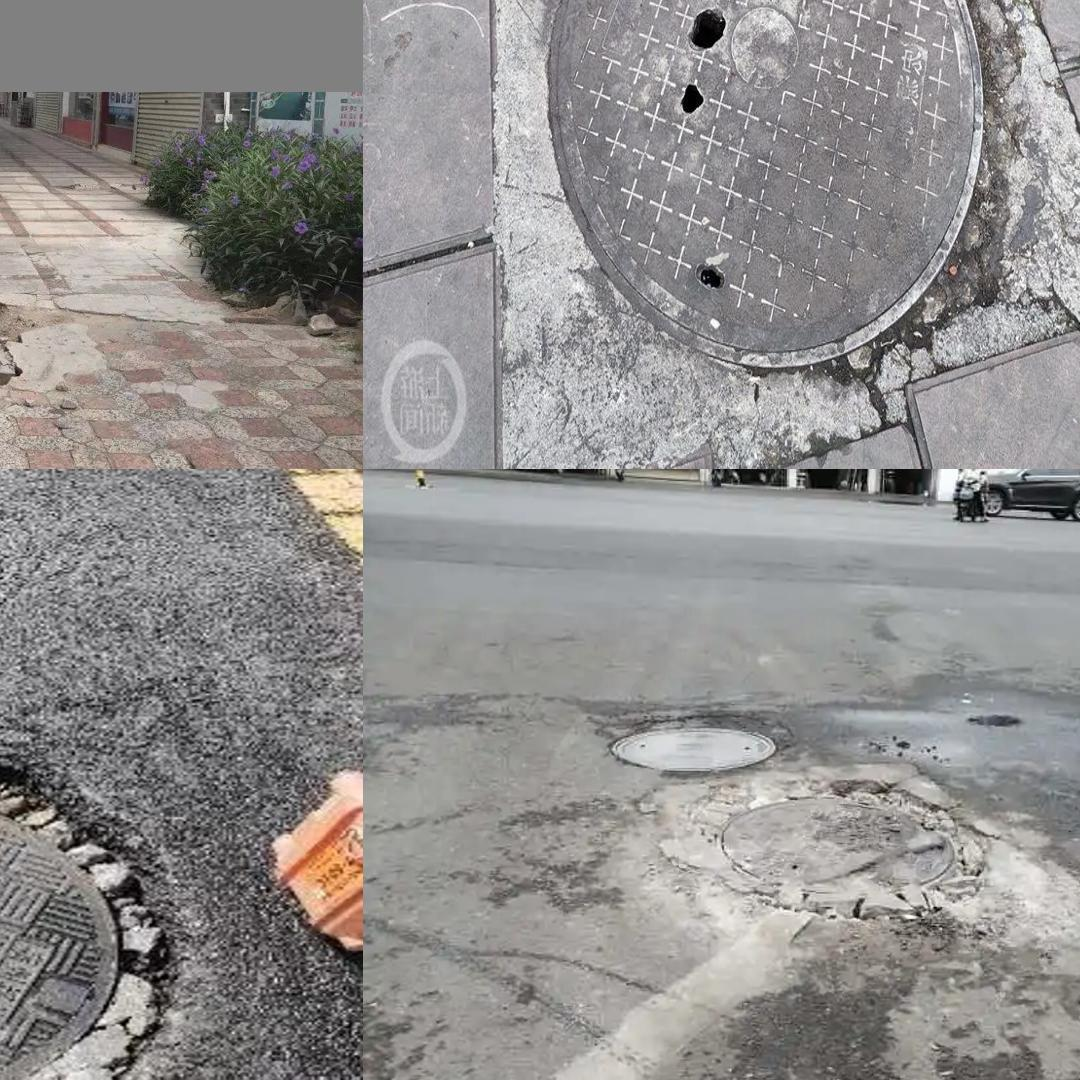circle: (473, 0, 1075, 451), (667, 765, 1072, 989), (0, 743, 174, 1080), (0, 273, 57, 426)
